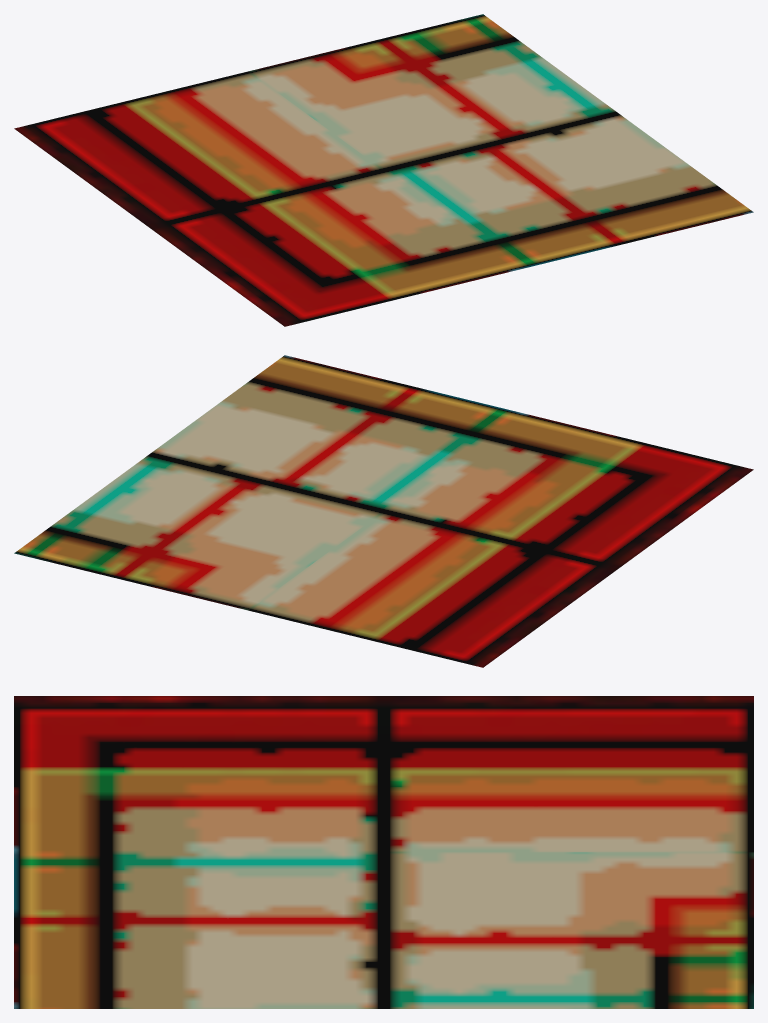
File: arch_cathedral_floorEdge_corner_1vert.FBX
3 views of the same model, one above another, from view 1: azimuth 30°, elevation 25°; view 2: azimuth 150°, elevation 25°; view 3: azimuth 270°, elevation 25° (orthographic). The views are drawn at different scales.
Parts seen in each view (by area): view 1: arch_cathedral_floorEdge_corner_1vert; view 2: arch_cathedral_floorEdge_corner_1vert; view 3: arch_cathedral_floorEdge_corner_1vert.
Boxes of the visible parts, x1,y1,x2,y2 form: arch_cathedral_floorEdge_corner_1vert: (14,14,753,326); arch_cathedral_floorEdge_corner_1vert: (14,355,753,667); arch_cathedral_floorEdge_corner_1vert: (14,696,753,1008).
Bounding box in the file's own units: 2 × 8.18e-07 × 2.
Materials: 1 (1 with a texture image).
